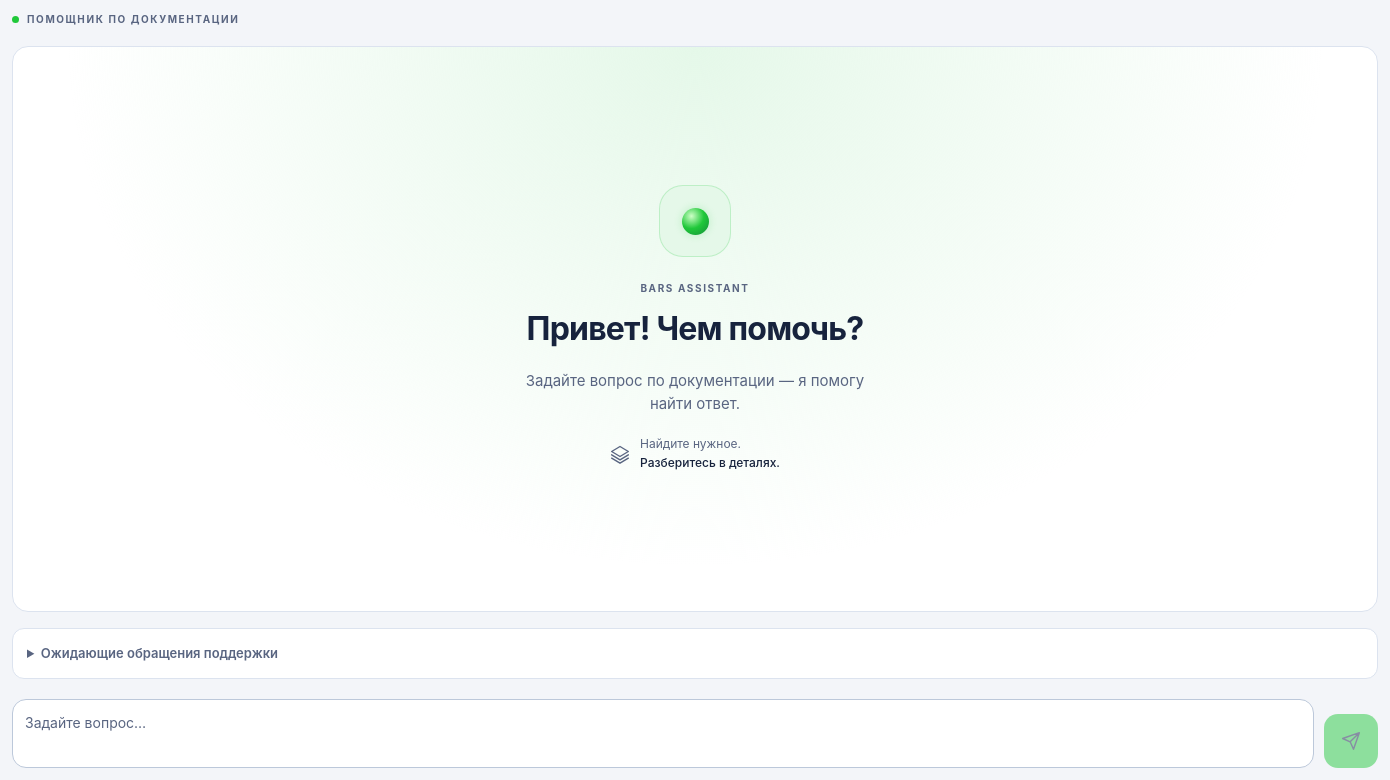
it: roles, text chat and request recovery › preserves key and body across ambiguous failure and reopening
Later steps or results of the test are not shown.
Type "How?" into the text box named "Ваш вопрос" at x=663, y=733, box x1=12 y1=699 x2=1314 y2=768
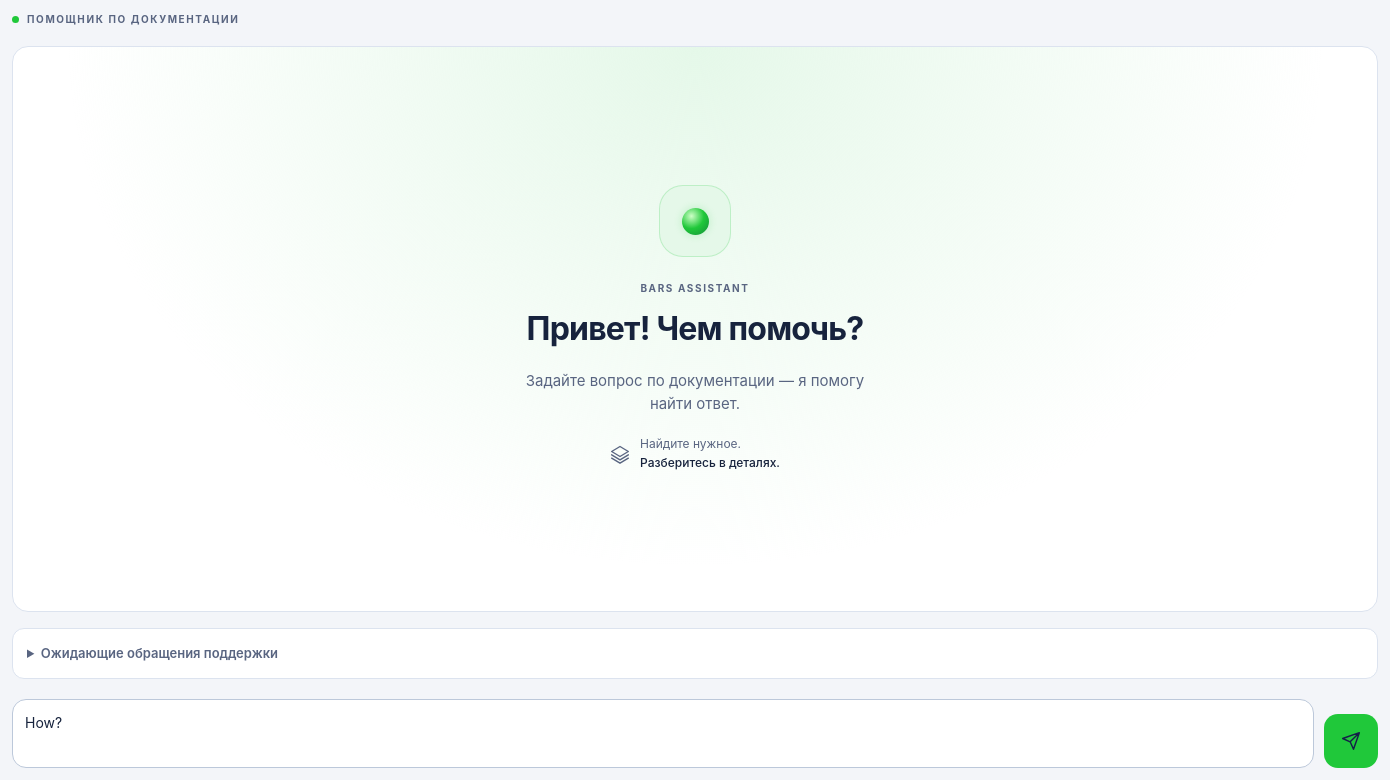
Click the button named "Отправить" at x=1351, y=741, box x1=1324 y1=714 x2=1378 y2=768
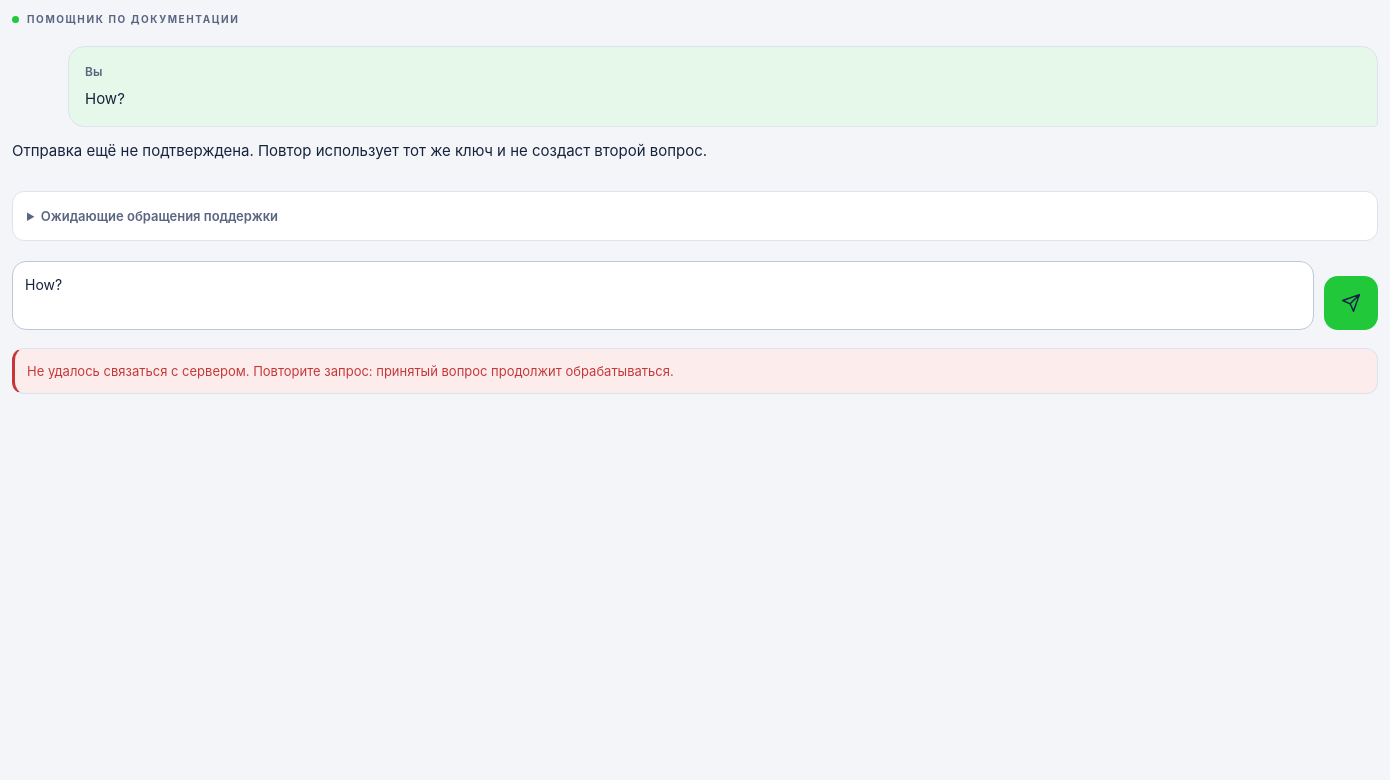
Now the button named "Повторить отправку" is shown, box x1=1324 y1=276 x2=1378 y2=330
